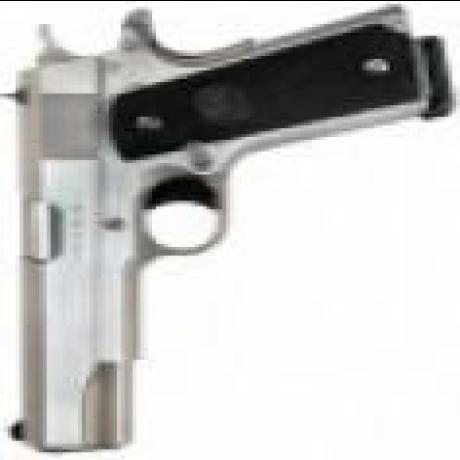weapon: (2, 5, 450, 455)
